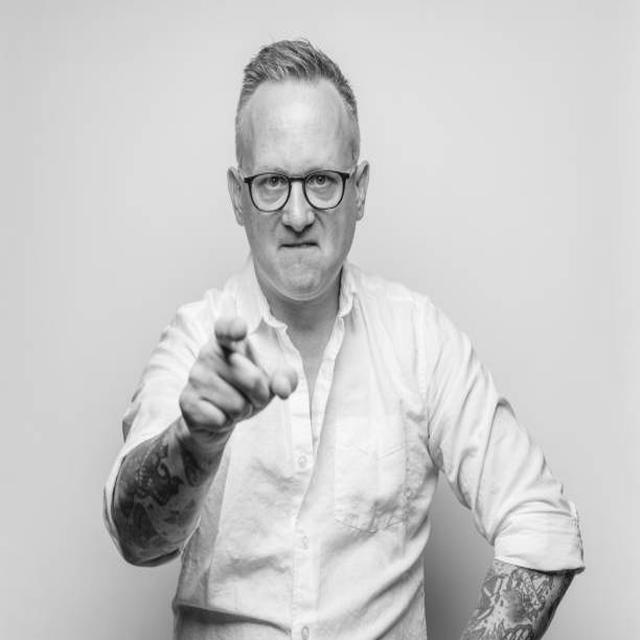Angry: (241, 84, 356, 294)
